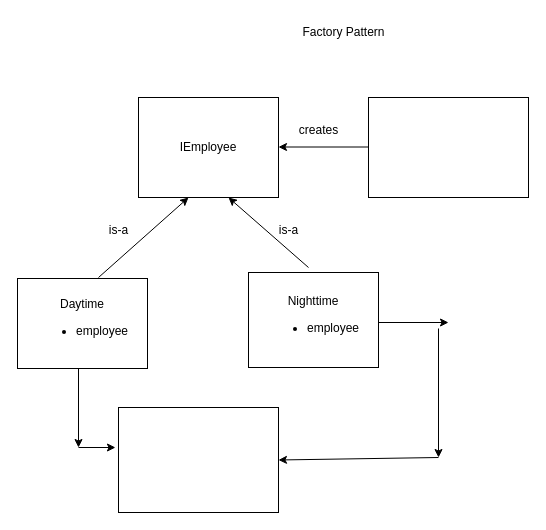
Some shapes in this 546 by 530 pixel diagram are drawn without their labels. Each missing label, with the centre of its shape:
"EmpFactory" goes at pixel 448 147.
"Employee name emptype" goes at pixel 198 459.
